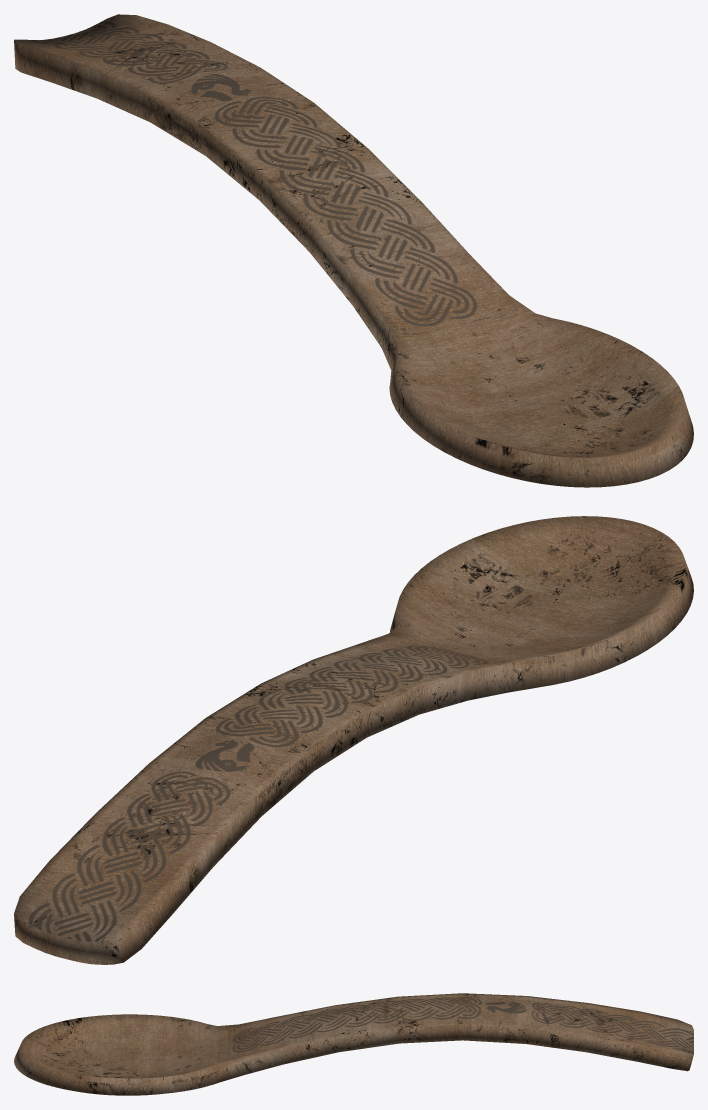
File: 5VikingsObjectsSpoon.glb
The picture shows the model from 3 angles, top to bottom: view 1: azimuth 30°, elevation 25°; view 2: azimuth 150°, elevation 25°; view 3: azimuth 270°, elevation 25°; orthographic projection. The views are drawn at different scales.
Parts seen in each view (by area): view 1: VikingsObjectsSpoon; view 2: VikingsObjectsSpoon; view 3: VikingsObjectsSpoon.
Part boxes in pixels (x1,y1,x2,y2): VikingsObjectsSpoon: (14, 14, 693, 487); VikingsObjectsSpoon: (14, 516, 693, 964); VikingsObjectsSpoon: (14, 993, 693, 1095).
Bounding box in the file's own units: 0.163 × 0.0818 × 0.6921.
3 materials, 3 textured.
